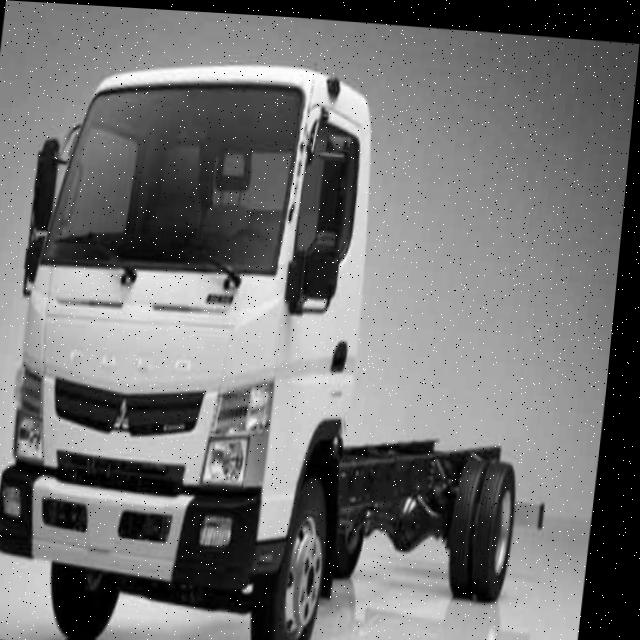truck: (1, 28, 419, 638)
